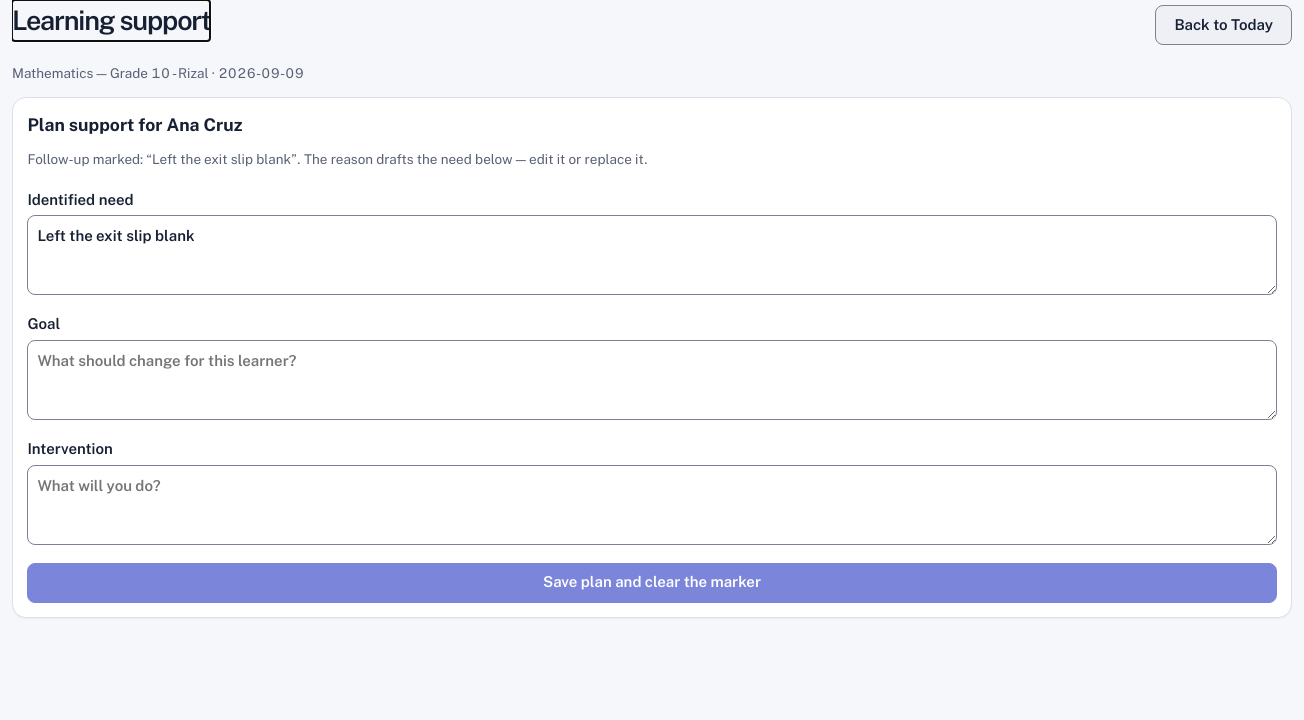
LearningSupportScreen › keeps the plan when clearing the marker fails
Type "Goal" into the text box with placeholder "What should change for this learner?".
click(652, 380); type("Goal")  # box [27,340,1277,420]
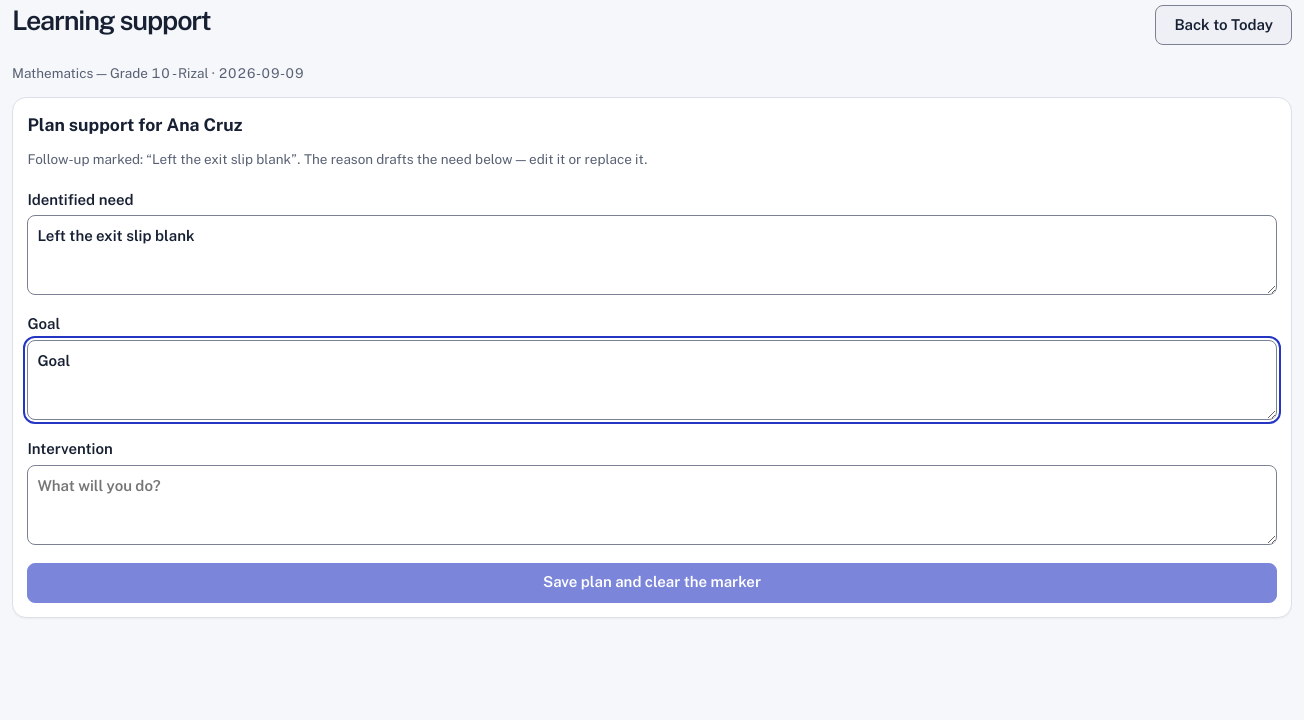
Type "Intervention" into the text box with placeholder "What will you do?".
click(652, 505); type("Intervention")  # box [27,465,1277,545]
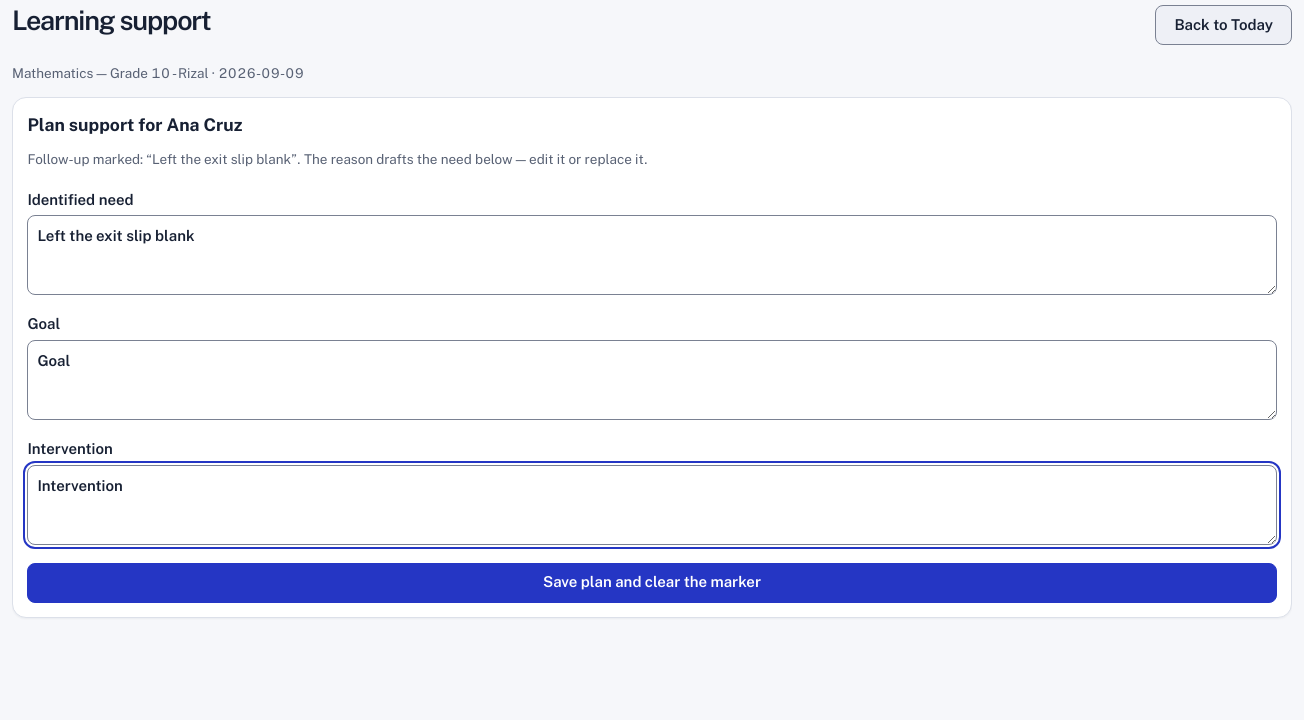
Now the button "Save plan and clear the marker" is enabled
Click the button "Save plan and clear the marker".
click(652, 583)  # box [27,563,1277,603]
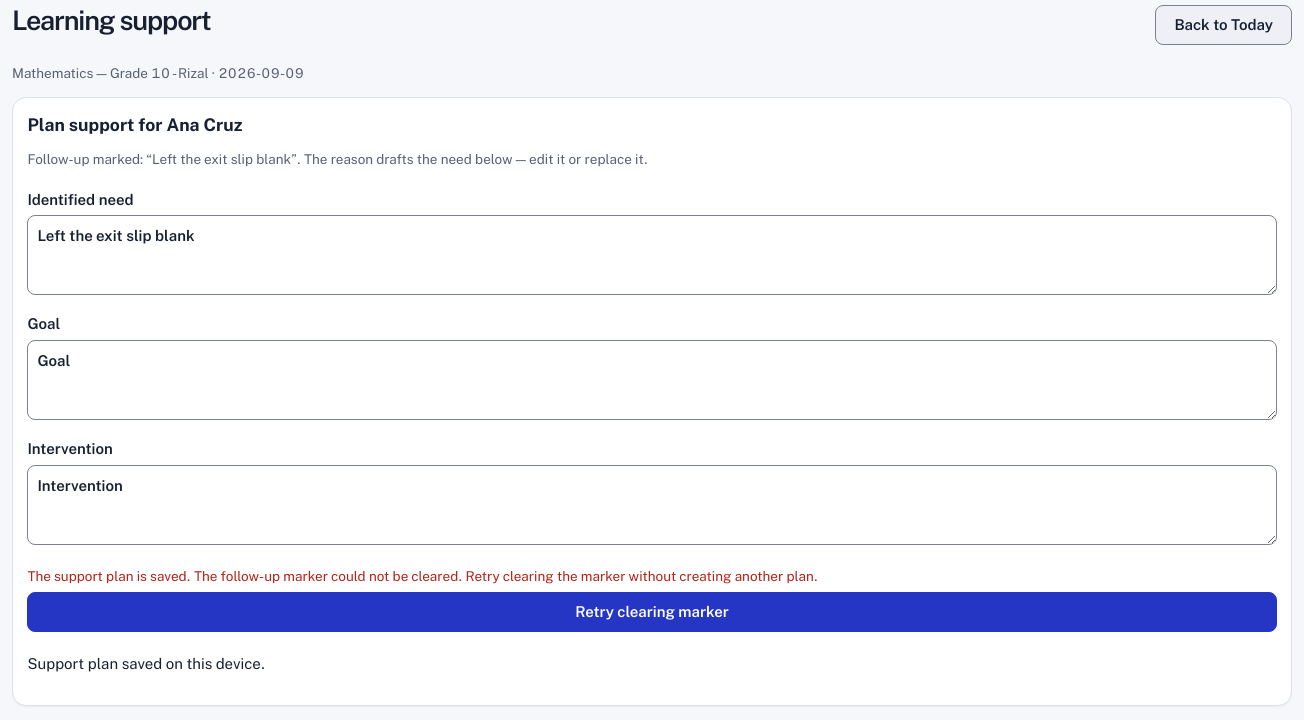
Now the button "Retry clearing marker" is shown, box [27,592,1277,632]
